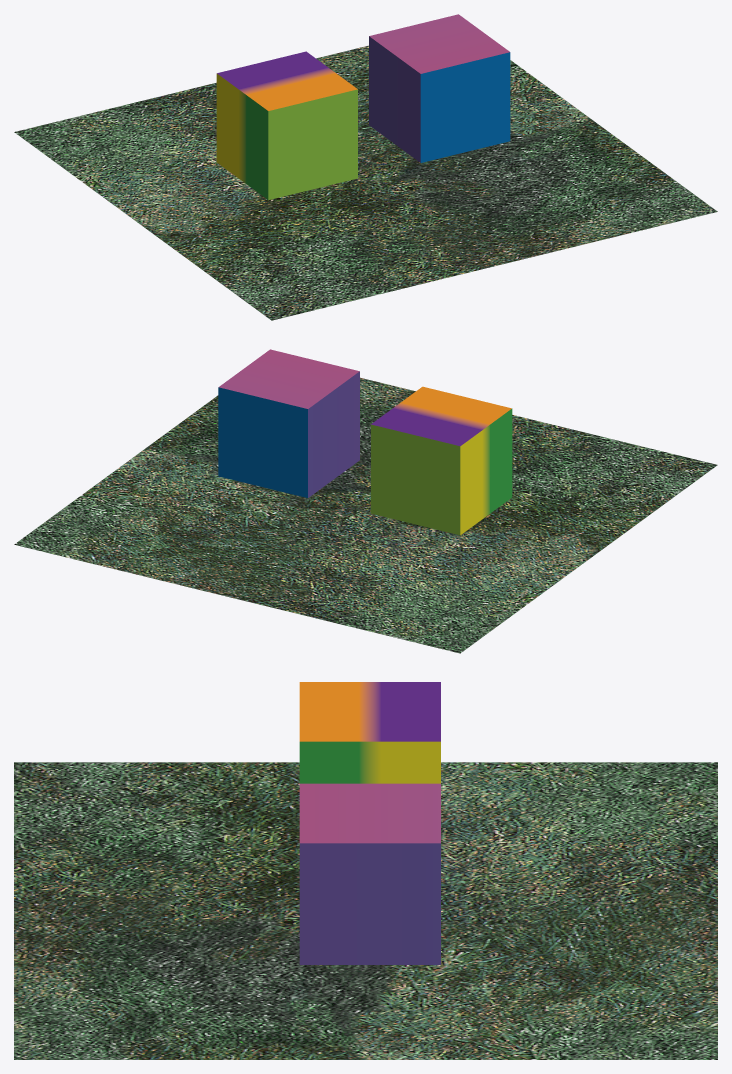
Rendered from cube-map-box2.dae.
3 renders of one model, top to bottom at view 1: azimuth 30°, elevation 25°; view 2: azimuth 150°, elevation 25°; view 3: azimuth 270°, elevation 25°, orthographic. The views are drawn at different scales.
Visible parts, largest first — view 1: base, cube-down02, cube-down01; view 2: base, cube-down01, cube-down02; view 3: base, cube-down02, cube-down01.
Part boxes in pixels (box(x1,y1,x2,y2)): base: box(14, 45, 717, 320); cube-down02: box(369, 14, 510, 162); cube-down01: box(216, 51, 357, 200); base: box(14, 377, 717, 653); cube-down01: box(371, 386, 512, 535); cube-down02: box(218, 349, 359, 497); base: box(14, 762, 717, 1059); cube-down02: box(299, 783, 440, 964); cube-down01: box(299, 682, 440, 783).
Bounding box in the file's own units: 4.98 × 1.15 × 4.98.
Materials: 3 (3 with a texture image).
